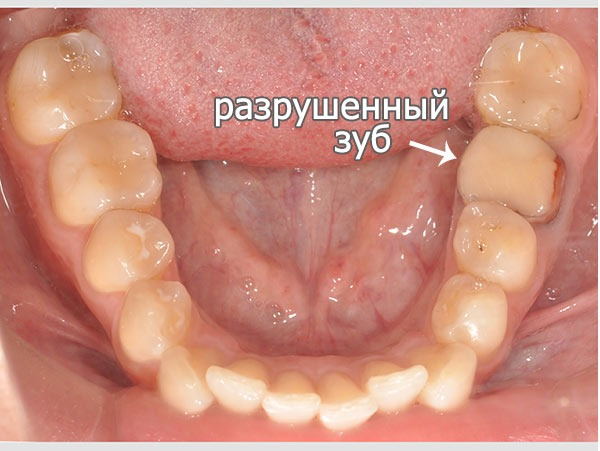LL1BC_healthy: (435, 277, 507, 352)
LL1M_decay: (458, 127, 567, 215)
LL2BC_decay: (456, 204, 535, 284)
LL2M_decay: (478, 30, 584, 125)
LLCI_healthy: (321, 373, 375, 430)
LLC_healthy: (423, 347, 475, 404)
LLLI_healthy: (370, 363, 425, 407)
LR1BC_healthy: (124, 281, 192, 355)
LR1M_healthy: (52, 121, 160, 218)
LR2BC_healthy: (87, 212, 173, 287)
LR2M_healthy: (17, 35, 117, 132)
LRCI_healthy: (267, 374, 319, 423)
LRC_healthy: (158, 345, 213, 412)
LRLI_healthy: (212, 360, 268, 410)
